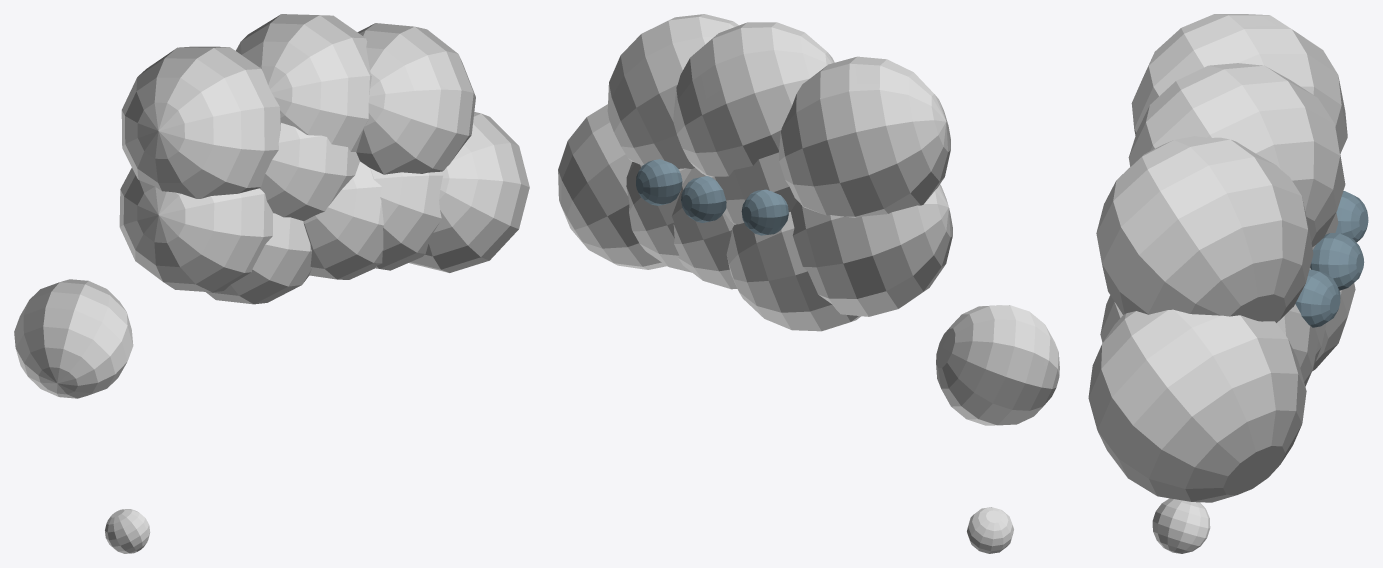
The model's file is thought_bubble.fbx.
The picture shows the model from 3 angles, left to right: view 1: azimuth 30°, elevation 25°; view 2: azimuth 150°, elevation 25°; view 3: azimuth 270°, elevation 25°; orthographic projection. The views are drawn at different scales.
Visible parts, largest first — view 1: Node; view 2: Node; view 3: Node.
Boxes of the visible parts, <box> form: Node: <box>14,14,529,553</box>; Node: <box>558,14,1059,553</box>; Node: <box>1088,14,1368,553</box>.
Size of the model in its own units: 133 by 125 by 52.48.
